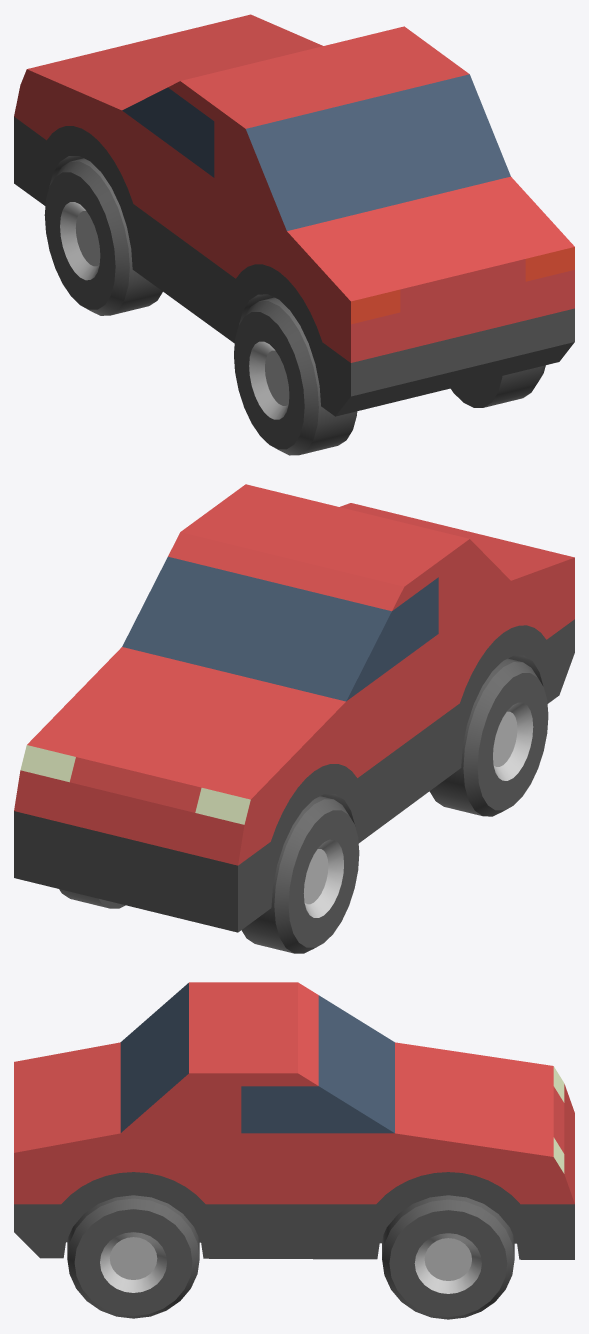
The model's file is carSedan.obj.
3 renders of one model, top to bottom at view 1: azimuth 30°, elevation 25°; view 2: azimuth 150°, elevation 25°; view 3: azimuth 270°, elevation 25°, orthographic. The views are drawn at different scales.
Parts seen in each view (by area): view 1: body 7, wheelBackLeft 7, wheelFrontLeft 7, wheelBackRight 7; view 2: body 7, wheelBackLeft 7, wheelFrontLeft 7; view 3: body 7, wheelFrontRight 7, wheelBackRight 7.
Boxes of the visible parts, x1,y1,x2,y2 form: body 7: (14, 14, 574, 416); wheelBackLeft 7: (234, 297, 357, 455); wheelFrontLeft 7: (44, 158, 162, 315); wheelBackRight 7: (450, 365, 545, 407); body 7: (14, 484, 574, 932); wheelBackLeft 7: (429, 658, 548, 816); wheelFrontLeft 7: (241, 796, 359, 953); body 7: (14, 982, 574, 1259); wheelFrontRight 7: (382, 1195, 514, 1319); wheelBackRight 7: (67, 1195, 199, 1318).
Size of the model in its own units: 4.95 by 5.76 by 11.85.
